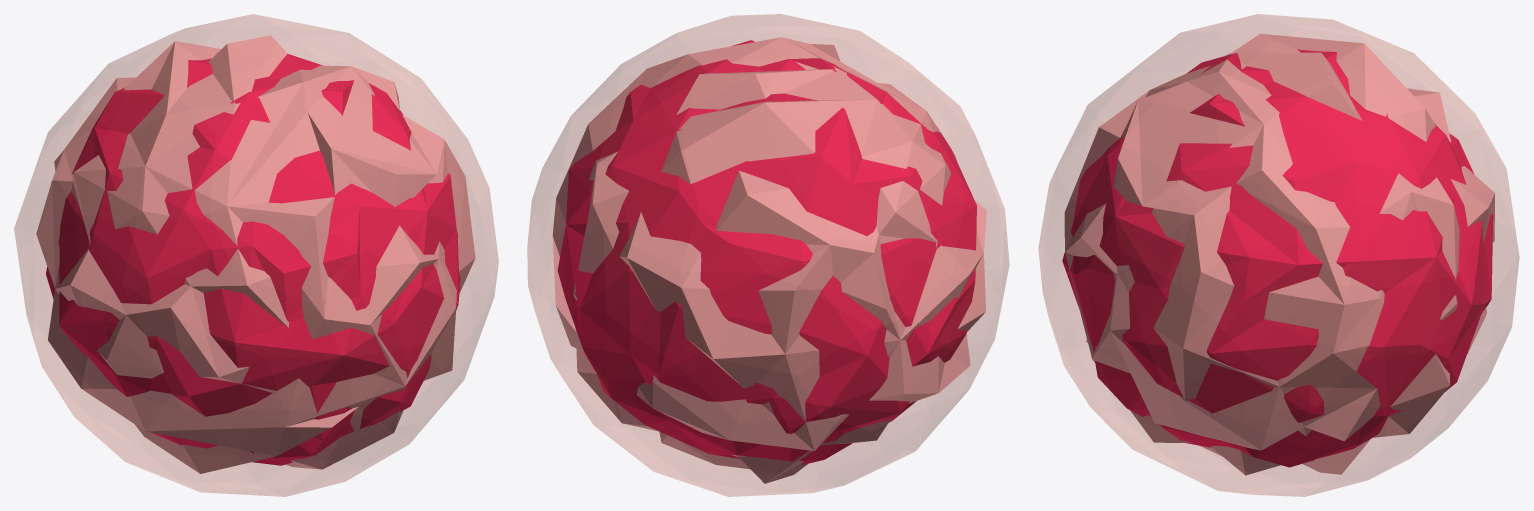
Rendered from gas_planet2.fbx.
The picture shows the model from 3 angles, left to right: view 1: azimuth 30°, elevation 25°; view 2: azimuth 150°, elevation 25°; view 3: azimuth 270°, elevation 25°; orthographic projection.
Parts seen in each view (by area): view 1: gas_planet2; view 2: gas_planet2; view 3: gas_planet2.
Part boxes in pixels (x1,y1,x2,y2): gas_planet2: (14, 14, 498, 496); gas_planet2: (527, 14, 1009, 496); gas_planet2: (1038, 14, 1519, 496).
Size of the model in its own units: 239 by 239 by 239.
